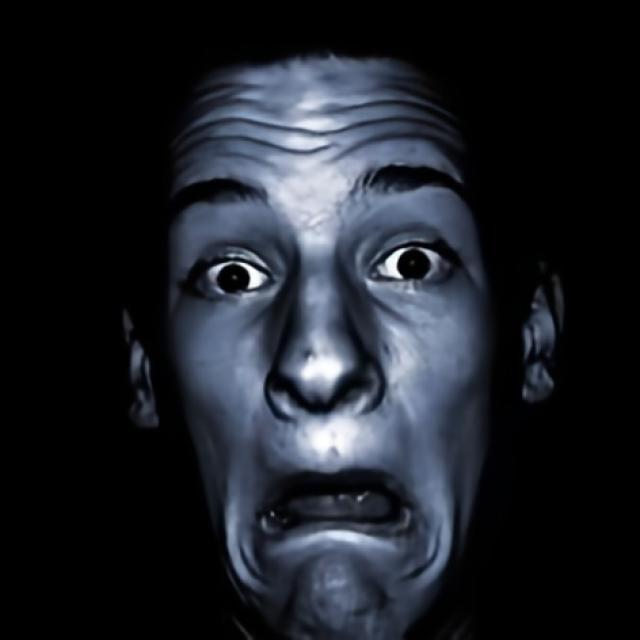fear: (163, 58, 492, 640)
